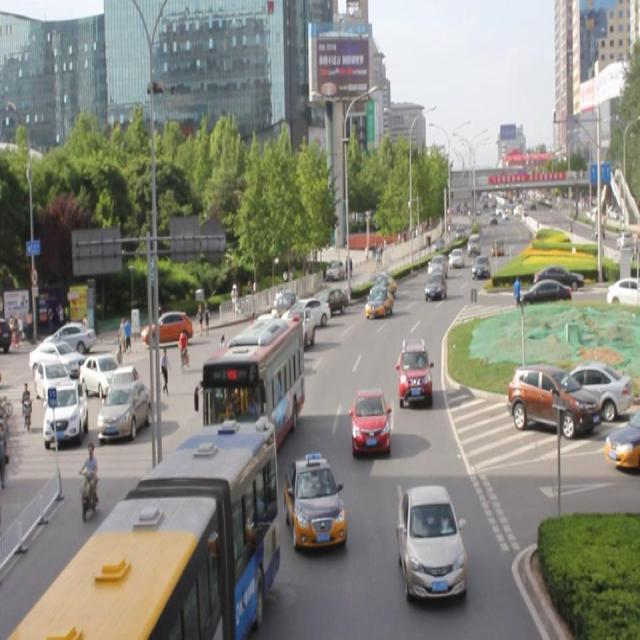car: (396, 482, 465, 598), (283, 454, 346, 544), (351, 384, 391, 454), (397, 337, 432, 405), (253, 315, 302, 353), (280, 310, 314, 360), (211, 345, 245, 395), (255, 335, 294, 376), (281, 295, 329, 327), (248, 315, 277, 357), (308, 286, 348, 315), (364, 284, 392, 318), (368, 272, 397, 298), (423, 269, 447, 298)
van: (9, 417, 277, 640), (203, 321, 306, 439)
